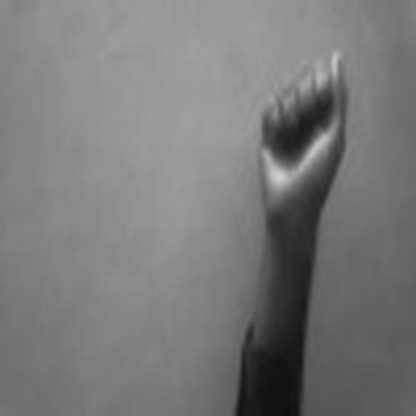a: (248, 36, 357, 219)
